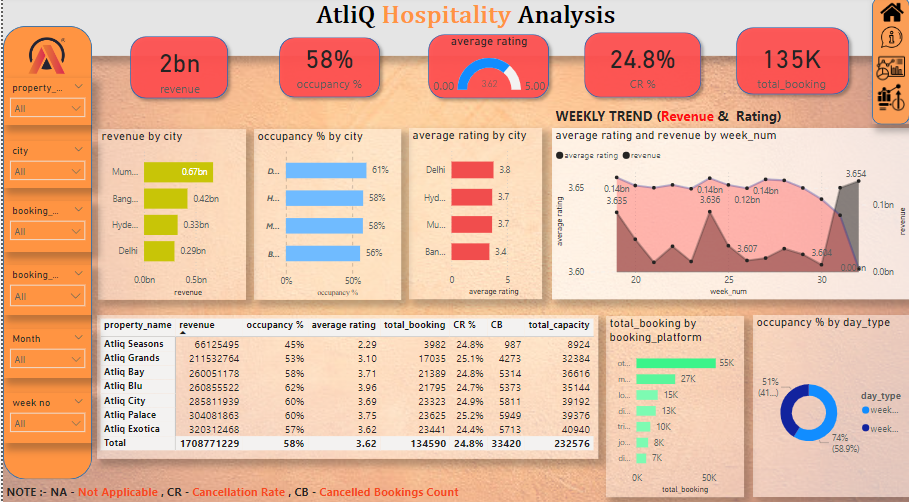

The page's visual inventory and layout, read from the dashboard file:
{"tool":"powerbi","page":{"name":"Overall Analysis","canvas":[1280,720],"ordinal":2},"visuals":[{"type":"clusteredBarChart","fields":{"Category":["dim_hotels.city"],"Y":["Report_Measures.revenue"]},"box":[133.6,186.4,209.1,240.9],"z":0},{"type":"clusteredBarChart","fields":{"Y":["Report_Measures.occupancy %"],"Category":["dim_hotels.city"]},"box":[353.8,186.2,207.5,241.2],"z":1000},{"type":"clusteredBarChart","fields":{"Category":["dim_hotels.city"],"Y":["Report_Measures.average rating"]},"box":[573.3,185,188.3,241.7],"z":2000},{"type":"pivotTable","fields":{"Rows":["dim_hotels.property_name"],"Values":["Report_Measures.revenue","Report_Measures.occupancy %","Report_Measures.average rating","Report_Measures.total_booking","Report_Measures.cancellation %","Report_Measures.total cancelled bookings","Report_Measures.total_capacity"]},"box":[133.3,448.3,708.3,203.3],"z":3000},{"type":"clusteredBarChart","fields":{"Category":["fact_bookings.booking_platform"],"Y":["Report_Measures.total_booking"]},"box":[851.3,450.4,194.8,255.5],"z":4000},{"type":"donutChart","fields":{"Y":["Report_Measures.occupancy %"],"Category":["dim_date.day_type"]},"box":[1058.8,448.9,221.6,256.9],"z":5000},{"type":"areaChart","fields":{"Category":["dim_date.week_num"],"Y":["Report_Measures.average rating"],"Y2":["Report_Measures.revenue"]},"box":[775,185,505,241.7],"z":6000},{"type":"shape","box":[0,0,1280,82.9],"z":7000},{"type":"shape","box":[0,41.4,125.7,640],"z":8000},{"type":"slicer","fields":{"Values":["dim_hotels.property_name"]},"box":[0,114.4,125.6,65.6],"z":9000},{"type":"slicer","fields":{"Values":["dim_hotels.city"]},"box":[0,203.3,125.6,65.6],"z":10000},{"type":"slicer","fields":{"Values":["fact_bookings.booking_status"]},"box":[0,287.8,125.6,72.2],"z":11000},{"type":"slicer","fields":{"Values":["fact_bookings.booking_platform"]},"box":[0,377.8,125.6,70],"z":12000},{"type":"slicer","fields":{"Values":["fact_bookings.check_in_date.Variation.Date Hierarchy.Month"]},"box":[0,468.9,125.6,68.9],"z":13000},{"type":"slicer","fields":{"Values":["dim_date.week no"]},"box":[0,558.9,125.6,71.1],"z":14000},{"type":"image","box":[17.8,51.1,88.9,63.3],"z":15000},{"type":"shape","box":[171.4,47.1,155.7,105.7],"z":16000},{"type":"card","fields":{"Values":["Report_Measures.revenue"]},"box":[174.3,58.6,151.4,85.7],"z":17000},{"type":"shape","box":[381.4,48.6,160,102.9],"z":18000},{"type":"card","fields":{"Values":["Report_Measures.occupancy %"]},"box":[395.7,51.4,130,87.1],"z":19000},{"type":"shape","box":[1025.7,34.3,177.1,112.9],"z":20000},{"type":"shape","box":[811.4,41.4,182.9,110],"z":21000},{"type":"shape","box":[591.7,43.3,188.3,108.3],"z":22000},{"type":"gauge","fields":{"Y":["Report_Measures.average rating"]},"box":[596.7,51.7,178.3,98.3],"z":23000},{"type":"card","fields":{"Values":["Report_Measures.cancellation %"]},"box":[841.4,51.4,122.9,87.1],"z":24000},{"type":"card","fields":{"Values":["Report_Measures.total_booking"]},"box":[1001.4,38.6,224.3,112.9],"z":25000},{"type":"textbox","box":[278.3,0,750,58.3],"z":26000},{"type":"textbox","box":[775,149,497,36.7],"z":27000},{"type":"textbox","box":[0,681.7,663.3,38.3],"z":28000},{"type":"actionButton","box":[381.7,50,160,103.3],"z":30000},{"type":"actionButton","box":[593.3,43.3,196.7,106.7],"z":31000},{"type":"actionButton","box":[803.3,43.3,198.3,110],"z":32000},{"type":"actionButton","box":[1026.7,31.7,171.7,125],"z":33000},{"type":"shape","box":[1226.7,0,53.3,180],"z":34000},{"type":"image","box":[1230,0,50,43.3],"z":35000},{"type":"image","box":[1230,36.7,50,40],"z":36000},{"type":"image","box":[1230,115,50,55],"z":37000},{"type":"image","box":[1226.7,71.7,53.3,56.7],"z":38000}]}

Visuals, with their boxes in screenshot pixels (x1, y1, x2, y2), scaled from the page's 1280x720 canvas onto the 909x502 screenshot:
clusteredBarChart - dim_hotels.city x Report_Measures.revenue: 95,130,243,298
clusteredBarChart - Report_Measures.occupancy % x dim_hotels.city: 251,130,399,298
clusteredBarChart - dim_hotels.city x Report_Measures.average rating: 407,129,541,298
pivotTable - dim_hotels.property_name x Report_Measures.revenue: 95,313,598,454
clusteredBarChart - fact_bookings.booking_platform x Report_Measures.total_booking: 605,314,743,492
donutChart - Report_Measures.occupancy % x dim_date.day_type: 752,313,908,492
areaChart - dim_date.week_num x Report_Measures.average rating: 550,129,908,298
shape: 0,0,908,58
shape: 0,29,89,475
slicer - dim_hotels.property_name: 0,80,89,126
slicer - dim_hotels.city: 0,142,89,187
slicer - fact_bookings.booking_status: 0,201,89,251
slicer - fact_bookings.booking_platform: 0,263,89,312
slicer - fact_bookings.check_in_date.Variation.Date Hierarchy.Month: 0,327,89,375
slicer - dim_date.week no: 0,390,89,439
image: 13,36,76,80
shape: 122,33,232,107
card - Report_Measures.revenue: 124,41,231,101
shape: 271,34,384,106
card - Report_Measures.occupancy %: 281,36,373,97
shape: 728,24,854,103
shape: 576,29,706,106
shape: 420,30,554,106
gauge - Report_Measures.average rating: 424,36,550,105
card - Report_Measures.cancellation %: 598,36,685,97
card - Report_Measures.total_booking: 711,27,870,106
textbox: 198,0,730,41
textbox: 550,104,903,129
textbox: 0,475,471,501
actionButton: 271,35,385,107
actionButton: 421,30,561,105
actionButton: 570,30,711,107
actionButton: 729,22,851,109
shape: 871,0,908,126
image: 873,0,908,30
image: 873,26,908,53
image: 873,80,908,119
image: 871,50,908,90
